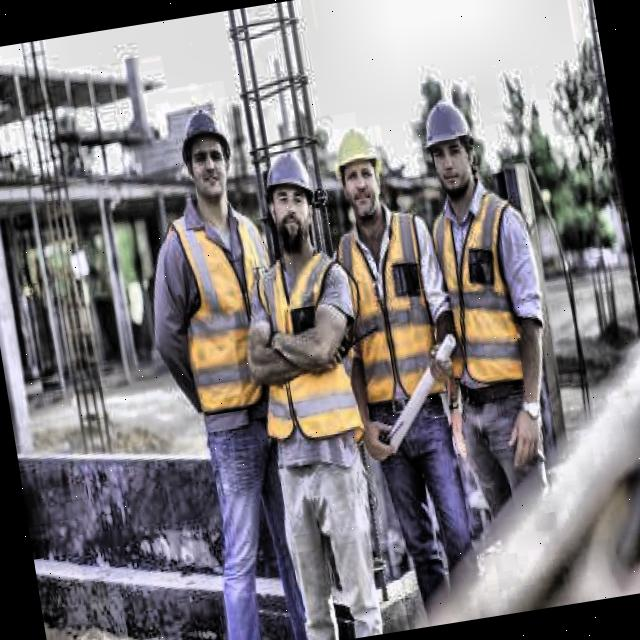helmet: (410, 84, 488, 208), (170, 90, 242, 218), (322, 110, 397, 230), (254, 138, 327, 255)
